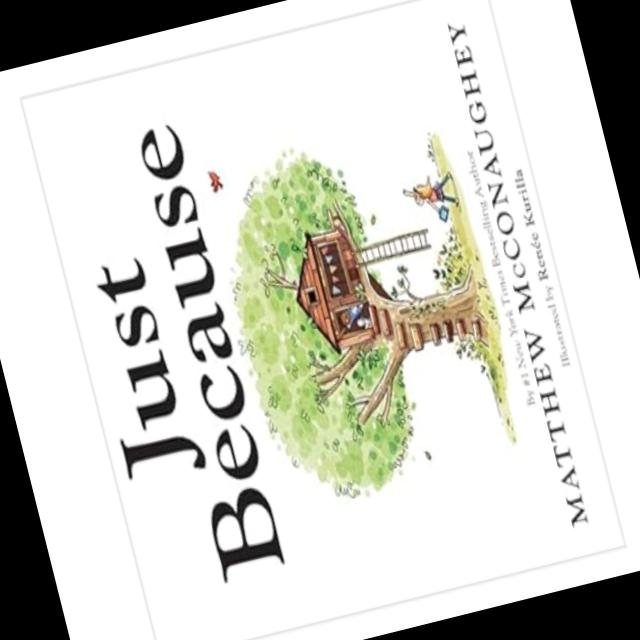titles-or-authors: (37, 109, 295, 606), (437, 8, 595, 536)
